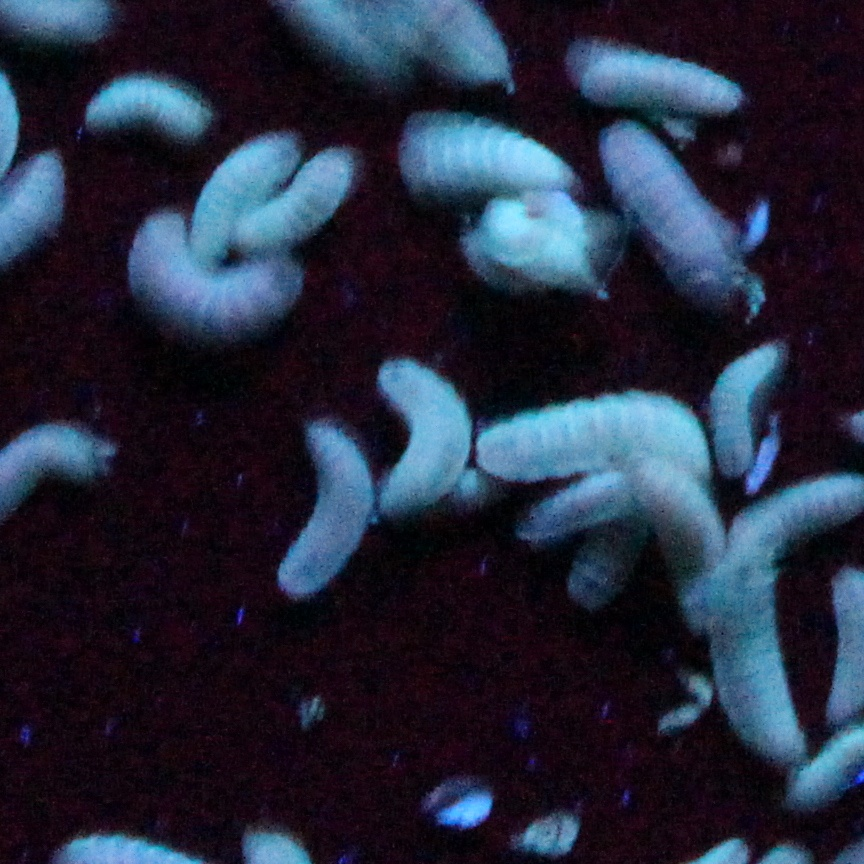larve: (599, 124, 754, 301), (124, 207, 306, 343), (712, 530, 808, 766), (479, 393, 712, 474), (268, 422, 374, 593), (401, 109, 587, 197), (633, 457, 729, 626), (379, 351, 472, 520), (191, 132, 304, 262), (574, 43, 749, 114), (235, 147, 358, 247), (512, 464, 647, 543), (712, 339, 789, 474), (83, 70, 214, 147)
